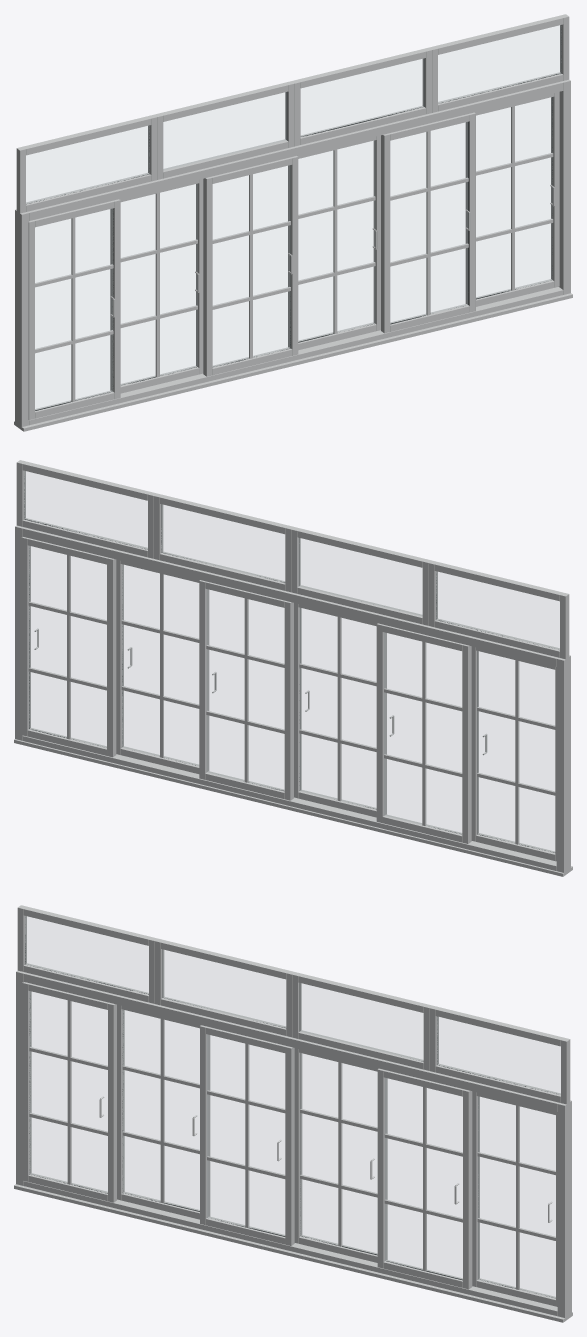
The model's file is white-grid-sliding-window-with-transom-09.glb.
The picture shows the model from 3 angles, top to bottom: view 1: azimuth 30°, elevation 25°; view 2: azimuth 150°, elevation 25°; view 3: azimuth 330°, elevation 25°; orthographic projection.
Visible parts, largest first — view 1: Window / Transom glass, Window / Outer jamb, Window / Transom sash, Window / Sliding leaf 3 glass, Window / Sliding leaf 5 glass, Window / Sliding leaf 1 glass, Window / Sliding leaf 2 glass, Window / Sliding leaf 6 glass, Window / Sliding leaf 4 glass, Window / Sliding leaf 3 sash, Window / Sliding leaf 5 sash, Window / Sliding leaf 1 sash (+16 smaller); view 2: Window / Transom glass, Window / Outer jamb, Window / Transom sash, Window / Sliding leaf 2 glass, Window / Sliding leaf 1 glass, Window / Sliding leaf 4 glass, Window / Sliding leaf 6 glass, Window / Sliding leaf 5 glass, Window / Sliding leaf 3 glass, Window / Sliding leaf 2 sash, Window / Sliding leaf 6 sash, Window / Sliding leaf 4 sash (+16 smaller); view 3: Window / Transom glass, Window / Transom sash, Window / Outer jamb, Window / Sliding leaf 5 glass, Window / Sliding leaf 3 glass, Window / Sliding leaf 6 glass, Window / Sliding leaf 1 glass, Window / Sliding leaf 2 glass, Window / Sliding leaf 4 glass, Window / Sliding leaf 5 sash, Window / Sliding leaf 3 sash, Window / Sliding leaf 1 sash (+16 smaller).
Part boxes in pixels (<box>): Window / Transom glass: <box>26,25,560,203</box>; Window / Outer jamb: <box>15,79,570,429</box>; Window / Transom sash: <box>16,14,569,213</box>; Window / Sliding leaf 3 glass: <box>213,166,289,366</box>; Window / Sliding leaf 5 glass: <box>391,122,467,322</box>; Window / Sliding leaf 1 glass: <box>35,209,112,409</box>; Window / Sliding leaf 2 glass: <box>121,184,196,384</box>; Window / Sliding leaf 6 glass: <box>476,98,551,298</box>; Window / Sliding leaf 4 glass: <box>299,141,374,341</box>; Window / Sliding leaf 3 sash: <box>203,156,298,376</box>; Window / Sliding leaf 5 sash: <box>381,112,475,333</box>; Window / Sliding leaf 1 sash: <box>28,199,120,419</box>; Window / Transom glass: <box>25,471,559,649</box>; Window / Outer jamb: <box>15,525,570,874</box>; Window / Transom sash: <box>16,460,569,659</box>; Window / Sliding leaf 2 glass: <box>385,633,461,833</box>; Window / Sliding leaf 1 glass: <box>478,651,554,852</box>; Window / Sliding leaf 4 glass: <box>207,590,283,790</box>; Window / Sliding leaf 6 glass: <box>30,546,106,747</box>; Window / Sliding leaf 5 glass: <box>123,565,198,765</box>; Window / Sliding leaf 3 glass: <box>300,608,375,808</box>; Window / Sliding leaf 2 sash: <box>376,623,471,843</box>; Window / Sliding leaf 6 sash: <box>21,537,116,757</box>; Window / Sliding leaf 4 sash: <box>199,580,293,800</box>; Window / Transom glass: <box>26,916,560,1094</box>; Window / Transom sash: <box>17,905,570,1104</box>; Window / Outer jamb: <box>16,970,571,1317</box>; Window / Sliding leaf 5 glass: <box>385,1078,462,1279</box>; Window / Sliding leaf 3 glass: <box>208,1035,284,1235</box>; Window / Sliding leaf 6 glass: <box>479,1097,555,1297</box>; Window / Sliding leaf 1 glass: <box>30,992,107,1192</box>; Window / Sliding leaf 2 glass: <box>123,1010,199,1210</box>; Window / Sliding leaf 4 glass: <box>301,1053,376,1253</box>; Window / Sliding leaf 5 sash: <box>377,1068,472,1289</box>; Window / Sliding leaf 3 sash: <box>200,1025,294,1245</box>; Window / Sliding leaf 1 sash: <box>22,982,116,1202</box>.
Bounding box in the file's own units: 3.2 × 1.55 × 0.123.
